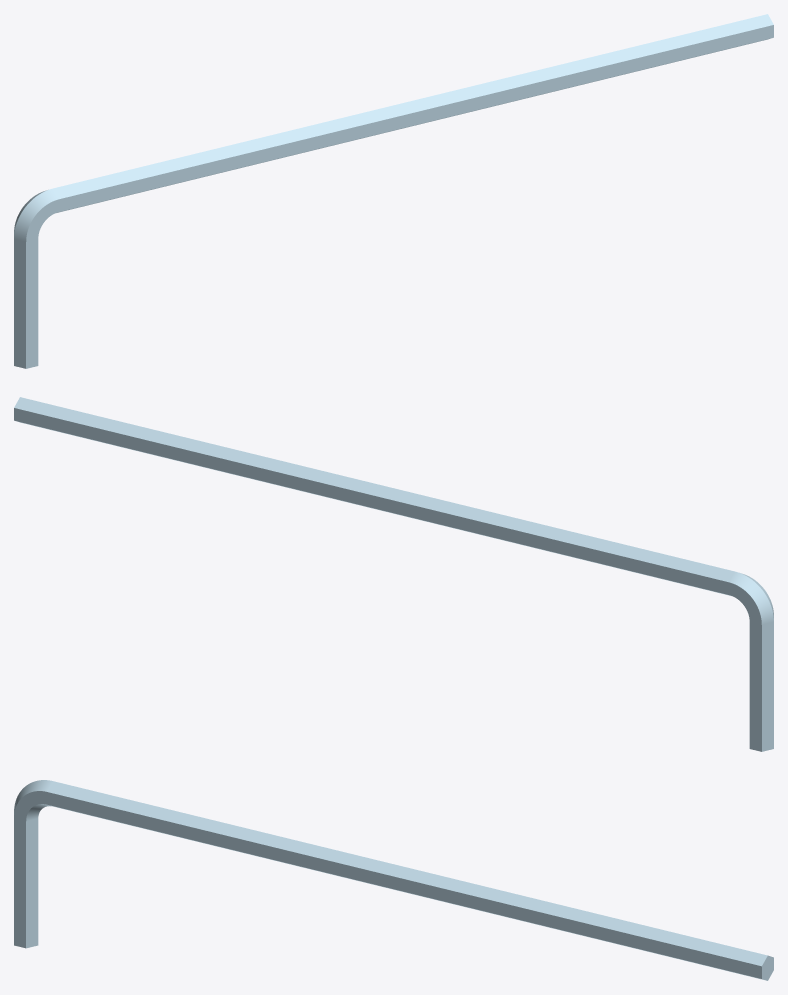
The model's file is 5-32 Allan Wrench.gltf.
3 views of the same model, one above another, from view 1: azimuth 30°, elevation 25°; view 2: azimuth 150°, elevation 25°; view 3: azimuth 330°, elevation 25° (orthographic).
Visible parts, largest first — view 1: Part 1; view 2: Part 1; view 3: Part 1.
Part boxes in pixels (x1,y1,x2,y2): Part 1: [14, 14, 773, 368]; Part 1: [14, 397, 773, 751]; Part 1: [14, 780, 773, 980].
Bounding box in the file's own units: 0.142 × 0.0302 × 0.00397.
